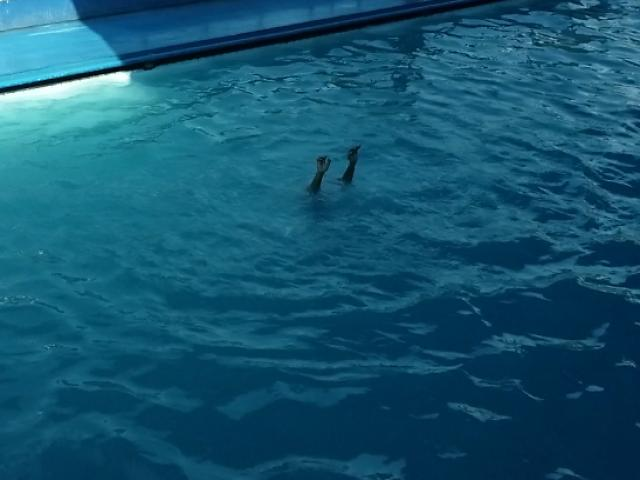drowning: (306, 140, 366, 202)
